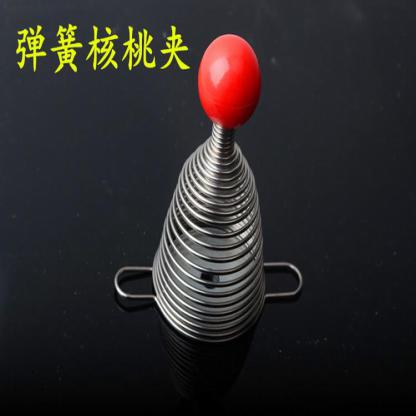FOD: (112, 30, 304, 338)
